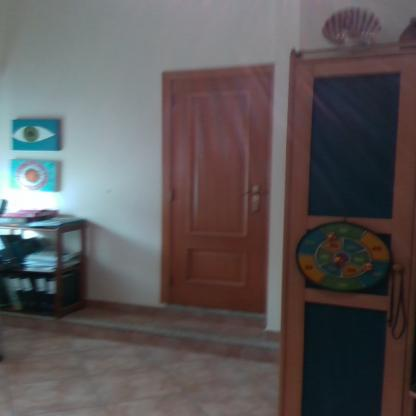door: (172, 79, 268, 310)
hinged: (168, 95, 176, 109), (167, 188, 174, 202), (168, 274, 173, 288)
lever: (238, 190, 262, 198)
